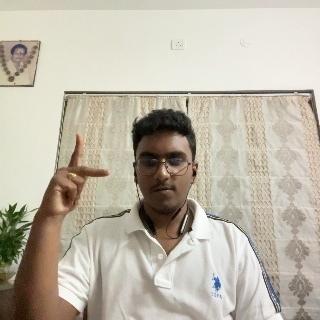Face: (135, 124, 193, 215)
Okay: (45, 132, 111, 224)
